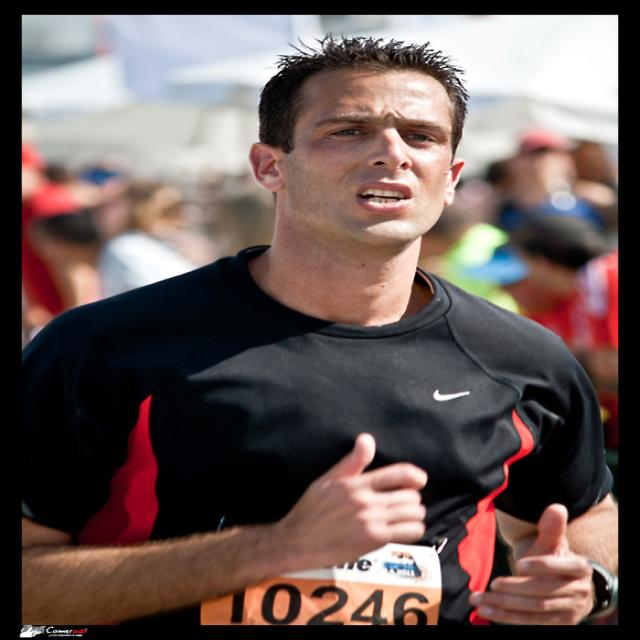Bib: (221, 588, 436, 632)
